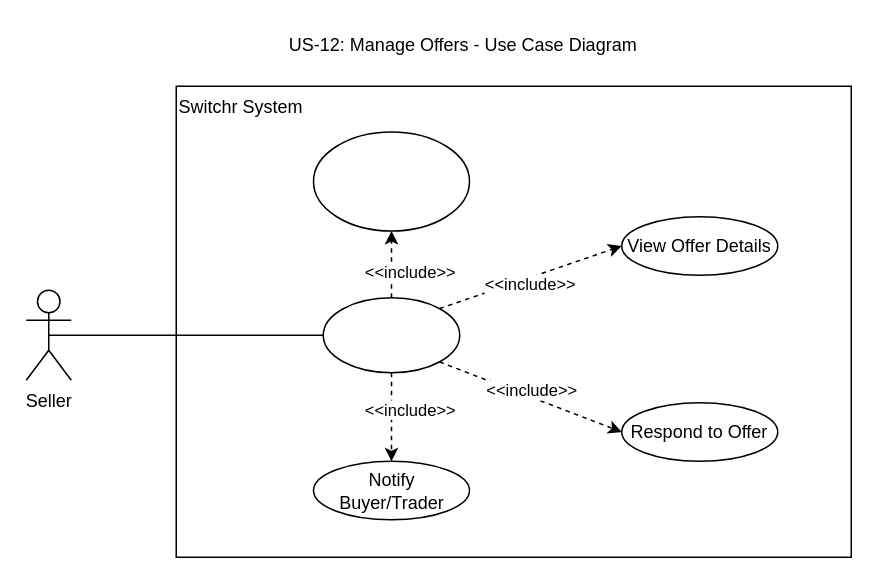
Some shapes in this 878 by 584 pixel diagram are drawn without their labels. The centre of each missing label's shape, as x and y in pixels:
Manage Offers: the point at 391,334
View Incoming & Outgoing Offers: the point at 391,180
